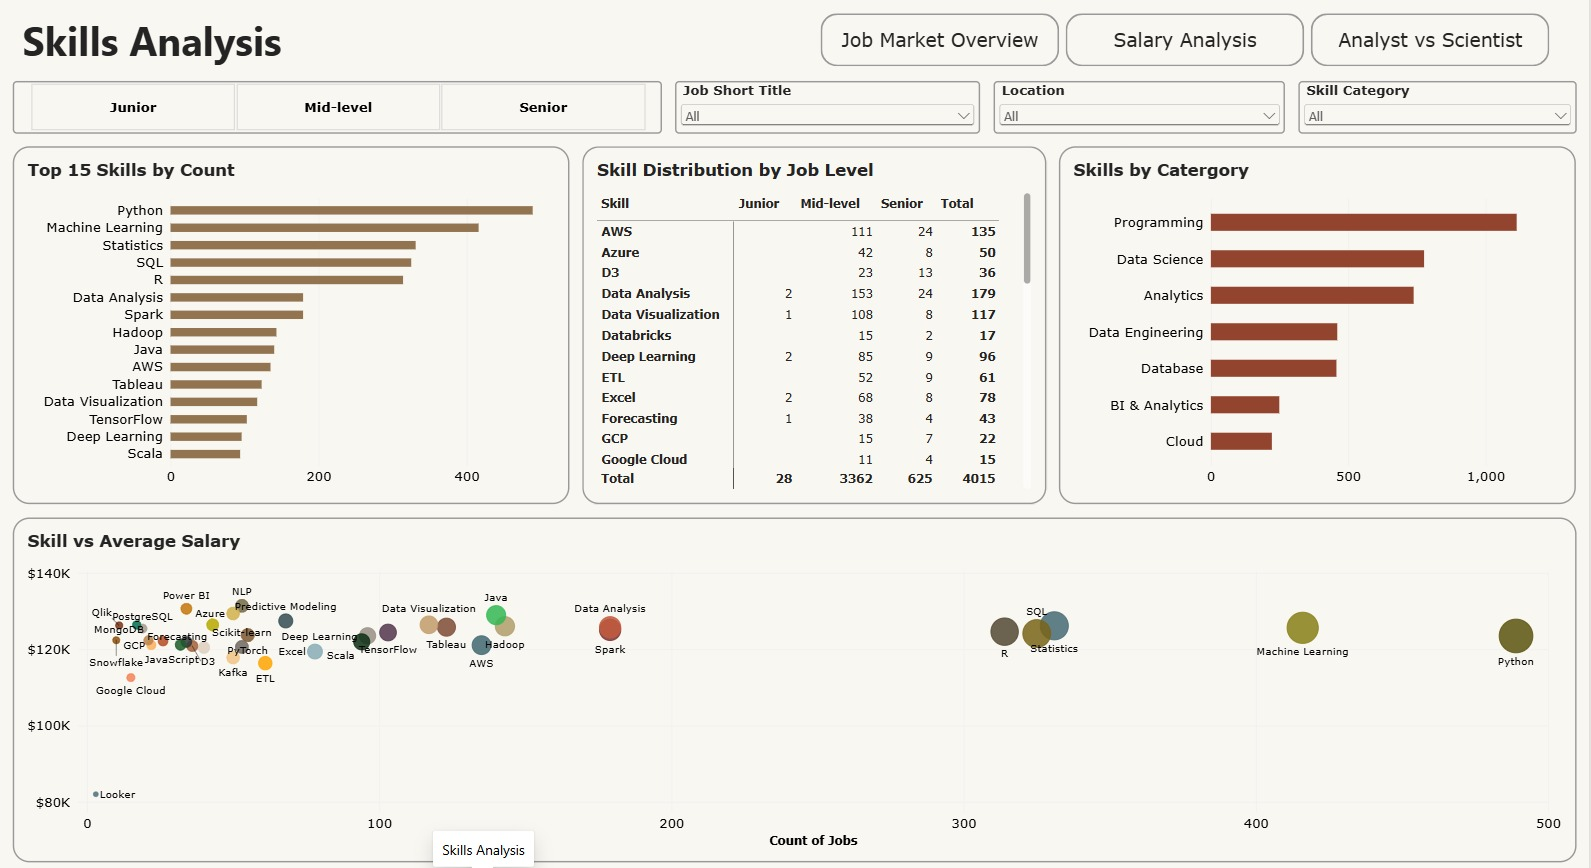

Layout of this report page (visuals, bound fields, positions):
{"tool":"powerbi","page":{"name":"Skills Analysis","canvas":[1920,1080],"ordinal":2},"visuals":[{"type":"clusteredBarChart","title":"Top 15 Skills by Count","fields":{"Category":["skill_dim.Skill"],"Y":["CountNonNull(job_skills.Skill_ID)"]},"box":[16,192,672,432],"z":0},{"type":"clusteredBarChart","title":"Skills by Catergory","fields":{"Category":["skill_dim.Skill Category"],"Y":["CountNonNull(job_skills.Skill_ID)"]},"box":[1280,192,624,432],"z":1000},{"type":"scatterChart","title":"Skill vs Average Salary","fields":{"Category":["skill_dim.Skill"],"Series":["skill_dim.Skill"],"Size":["CountNonNull(job_skills.Skill_ID)"],"X":["job_skills.Job ID"],"Y":["Avg(job_postings.Salary Avg)"]},"box":[16,640,1888,416],"z":2000},{"type":"pivotTable","title":"Skill Distribution by Job Level","fields":{"Columns":["job_postings.Job Level"],"Rows":["skill_dim.Skill"],"Values":["CountNonNull(job_skills.Skill_ID)"]},"box":[704,192,560,432],"z":3000},{"type":"slicer","fields":{"Values":["job_postings.Job Level"]},"box":[16,114,784,64],"z":4000},{"type":"slicer","fields":{"Values":["job_postings.Job Short Title"]},"box":[816,114,368,64],"z":5000},{"type":"slicer","fields":{"Values":["job_postings.Location"]},"box":[1200,114,352,64],"z":6000},{"type":"slicer","fields":{"Values":["skill_dim.Skill Category"]},"box":[1568,114,336,64],"z":7000},{"type":"textbox","box":[16,32,336,96],"z":8000},{"type":"pageNavigator","box":[992,32,880,64],"z":9000}]}

Visuals, with their boxes on the page's 1920x1080 design canvas (x1, y1, x2, y2). These are canvas units, not pixel positions in the 1591x868 screenshot, which may show the page scaled, cropped or inside an application window:
"Top 15 Skills by Count" clusteredBarChart: (x1=16, y1=192, x2=688, y2=624)
"Skills by Catergory" clusteredBarChart: (x1=1280, y1=192, x2=1904, y2=624)
"Skill vs Average Salary" scatterChart: (x1=16, y1=640, x2=1904, y2=1056)
"Skill Distribution by Job Level" pivotTable: (x1=704, y1=192, x2=1264, y2=624)
slicer - job_postings.Job Level: (x1=16, y1=114, x2=800, y2=178)
slicer - job_postings.Job Short Title: (x1=816, y1=114, x2=1184, y2=178)
slicer - job_postings.Location: (x1=1200, y1=114, x2=1552, y2=178)
slicer - skill_dim.Skill Category: (x1=1568, y1=114, x2=1904, y2=178)
textbox: (x1=16, y1=32, x2=352, y2=128)
pageNavigator: (x1=992, y1=32, x2=1872, y2=96)
